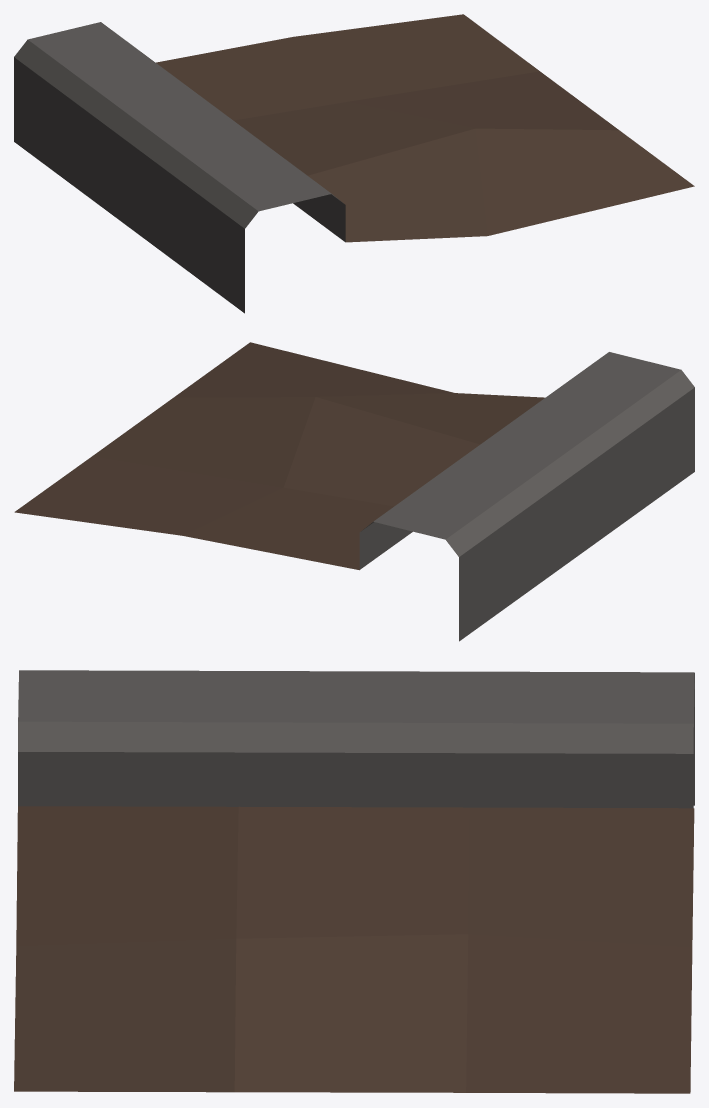
File: Garden Ground Edge 2.fbx
3 views of the same model, one above another, from view 1: azimuth 30°, elevation 25°; view 2: azimuth 150°, elevation 25°; view 3: azimuth 270°, elevation 25° (orthographic). The views are drawn at different scales.
Visible parts, largest first — view 1: Garden Ground Edge 2.001; view 2: Garden Ground Edge 2.001; view 3: Garden Ground Edge 2.001.
Part boxes in pixels (bbox=[...]): Garden Ground Edge 2.001: bbox=[14, 14, 694, 313]; Garden Ground Edge 2.001: bbox=[14, 342, 694, 641]; Garden Ground Edge 2.001: bbox=[14, 670, 694, 1093].
Bounding box in the file's own units: 110 × 99.78 × 23.12.
